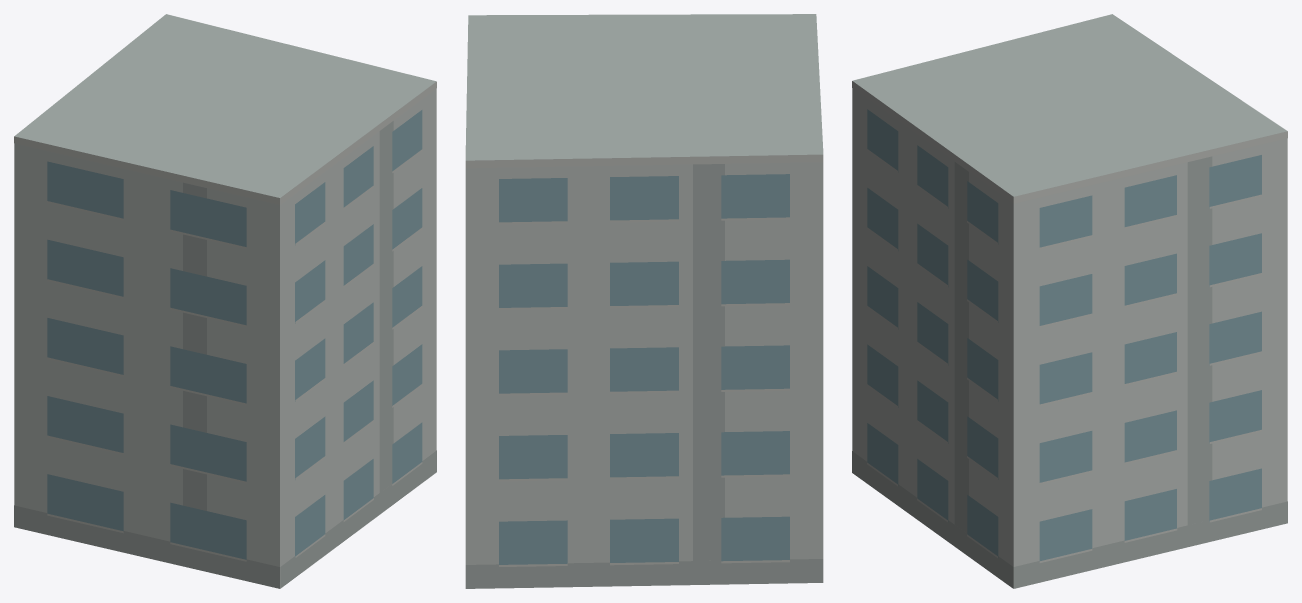
File: survey-upis-32979532.glb
3 renders of one model, left to right at view 1: azimuth 30°, elevation 25°; view 2: azimuth 150°, elevation 25°; view 3: azimuth 270°, elevation 25°, orthographic. The views are drawn at different scales.
Parts seen in each view (by area): view 1: survey-upis-32979532.tmp; view 2: survey-upis-32979532.tmp; view 3: survey-upis-32979532.tmp.
Boxes of the visible parts, x1=… form: survey-upis-32979532.tmp: x1=14, y1=14, x2=436, y2=588; survey-upis-32979532.tmp: x1=465, y1=14, x2=823, y2=588; survey-upis-32979532.tmp: x1=852, y1=14, x2=1287, y2=588.
Size of the model in its own units: 13.51 by 13.5 by 13.6.
